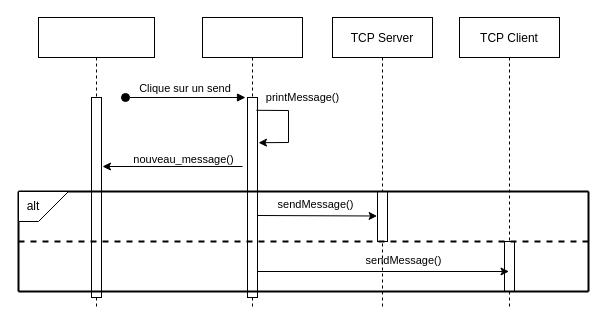
Some shapes in this 607 by 325 pixel diagram are drawn without their labels. Here are the shapes that lost their labels. From the top down, the box of each, then its label:
(38, 16, 154, 308): DatabaseManager
(202, 16, 302, 308): Interface
